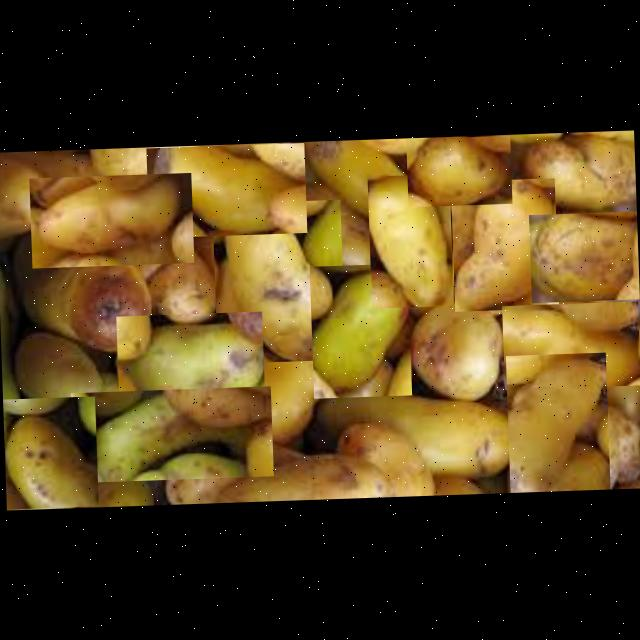Defected potato: (212, 200, 346, 363), (303, 388, 531, 482), (70, 386, 274, 482), (116, 311, 265, 418), (146, 142, 307, 238), (309, 263, 412, 398), (367, 174, 454, 308), (2, 396, 98, 509), (407, 298, 513, 400), (15, 332, 116, 423)
Diseased-fungal potato: (32, 230, 152, 360)
Potato: (29, 172, 194, 268), (505, 352, 610, 493), (451, 178, 558, 312), (501, 301, 640, 390), (528, 210, 640, 302), (406, 135, 512, 207)
